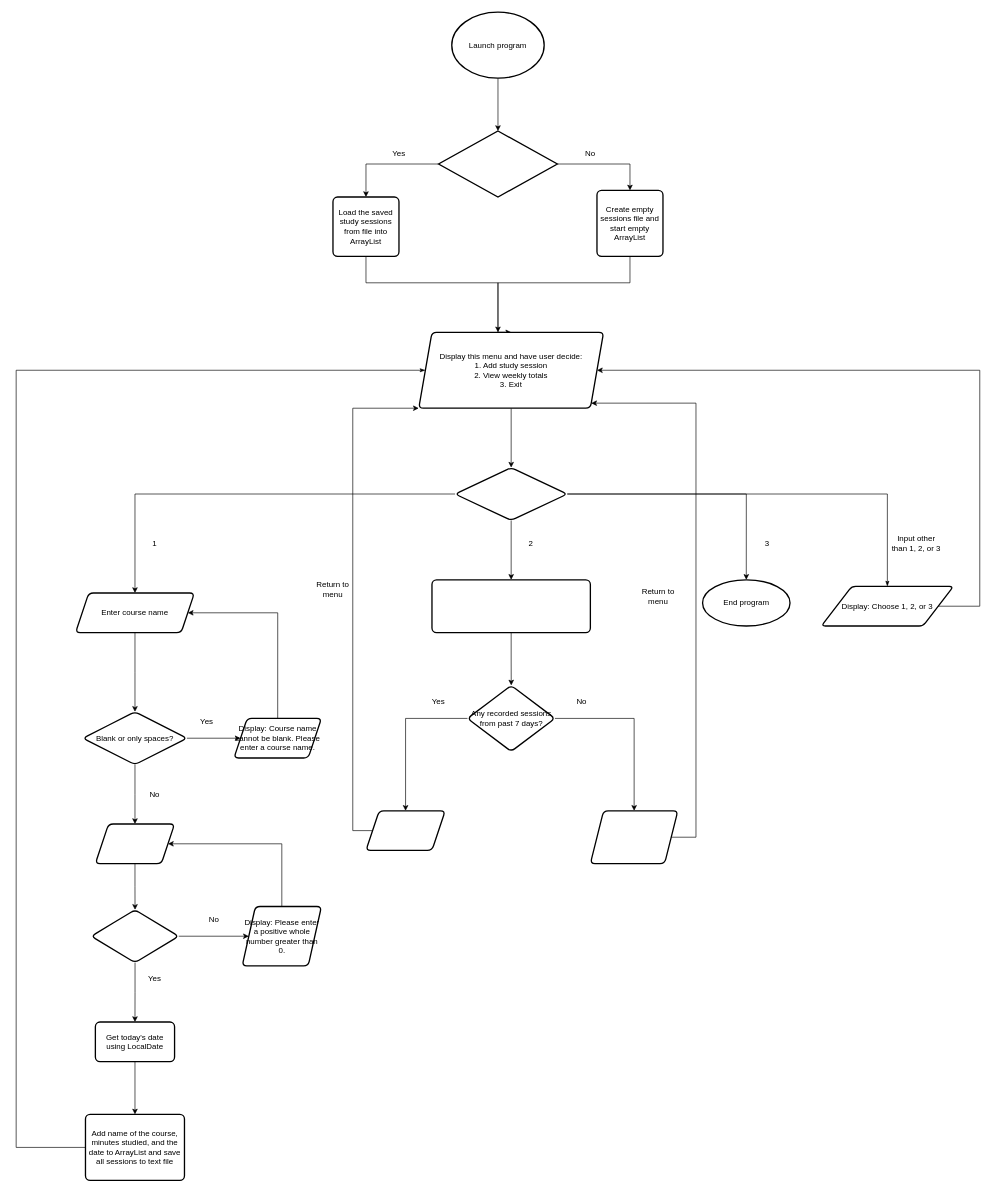
Image size: 997x1192. Some labels were removed from this diagram. The shapes that lost their labels are listed below. From the top down, each one's centre as x and y in pixels, then its label:
point 498,163: Does the study sessions file exist?
point 511,494: Which choice?
point 511,606: Calculate total study minutes for each course over last 7 days
point 134,843: Enter the minutes studied you studied for
point 405,830: Display weekly totals per course
point 633,837: Display: No study sessions recorded in the last 7 days
point 134,936: Is it a whole number greater than 0?
